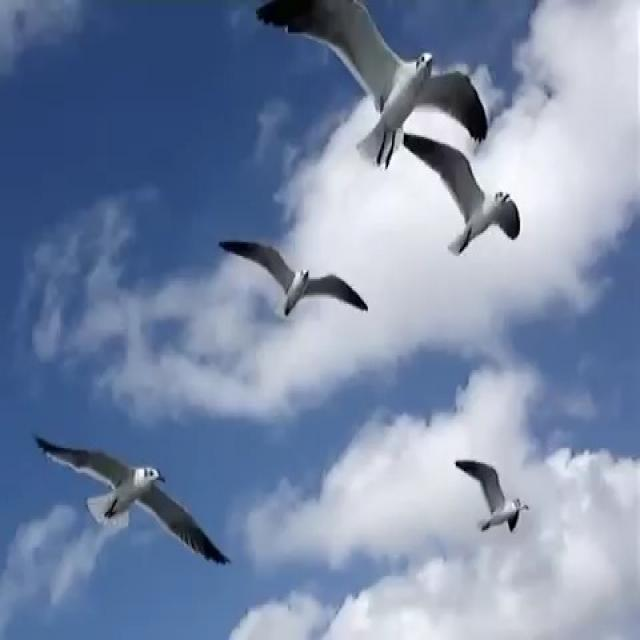bird: (291, 7, 488, 158), (33, 438, 232, 566), (409, 136, 562, 276), (219, 237, 389, 342), (450, 457, 547, 536)
